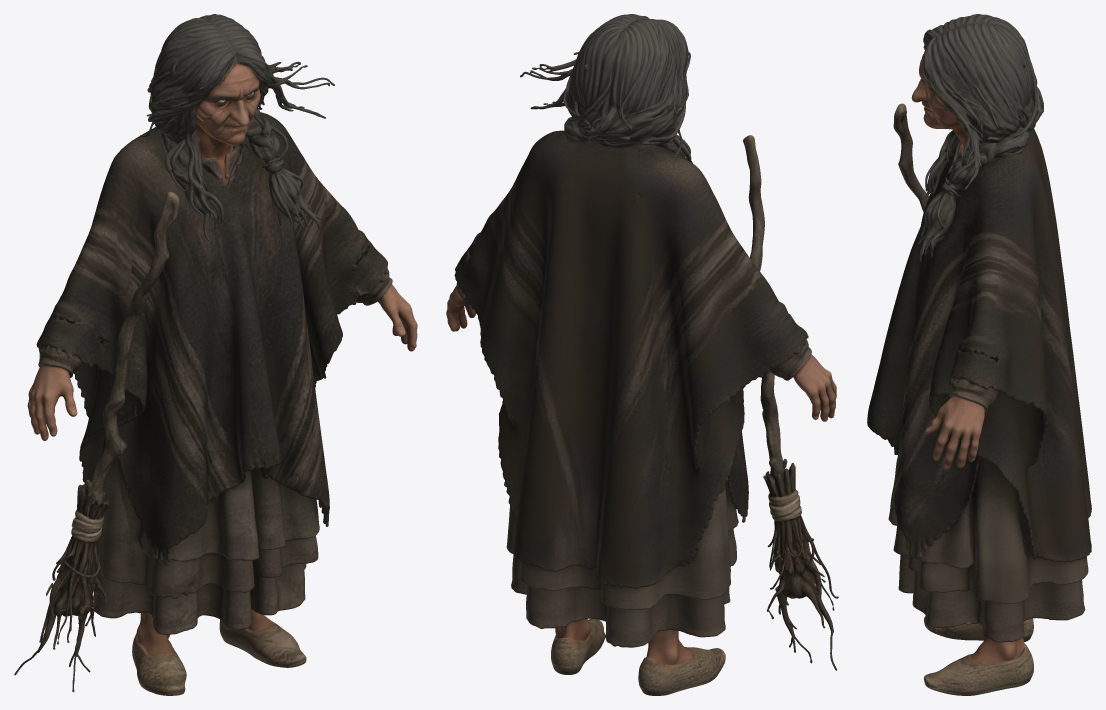
Rendered from 39-la-bruja-del-cartucho-bendito.-optimized.glb.
The picture shows the model from 3 angles, left to right: view 1: azimuth 30°, elevation 25°; view 2: azimuth 150°, elevation 25°; view 3: azimuth 270°, elevation 25°; orthographic projection.
Parts seen in each view (by area): view 1: tripo_node_f4bc1458-9a15-46b5-9fe6-c3f0c64eb41a; view 2: tripo_node_f4bc1458-9a15-46b5-9fe6-c3f0c64eb41a; view 3: tripo_node_f4bc1458-9a15-46b5-9fe6-c3f0c64eb41a.
Boxes of the visible parts, box(x1,y1,x2,y2) form: tripo_node_f4bc1458-9a15-46b5-9fe6-c3f0c64eb41a: box(14, 14, 417, 695); tripo_node_f4bc1458-9a15-46b5-9fe6-c3f0c64eb41a: box(446, 14, 838, 695); tripo_node_f4bc1458-9a15-46b5-9fe6-c3f0c64eb41a: box(867, 14, 1091, 695).
Size of the model in its own units: 0.6353 by 1 by 0.3186.
Materials: 1 (1 with a texture image).
